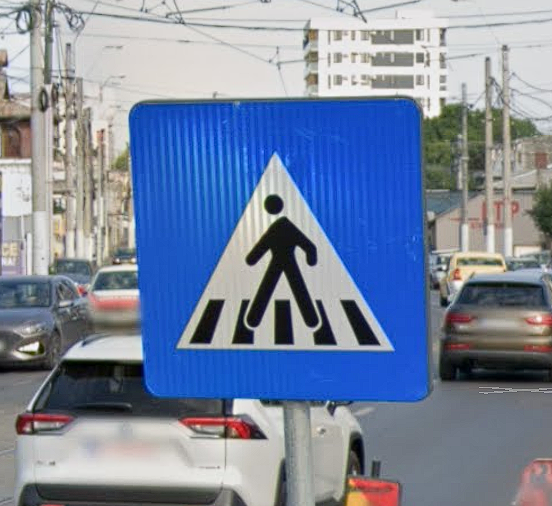trecere_pietoni: (120, 87, 440, 408)
